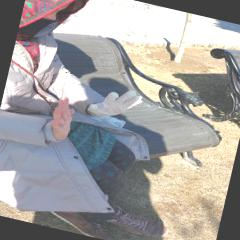gloved: (87, 82, 142, 125)
not-gloved: (46, 94, 76, 143)
